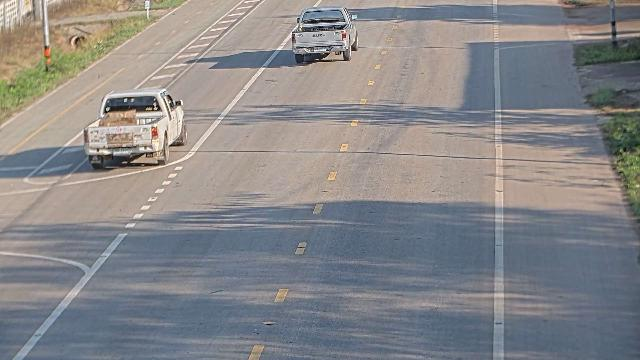pickup-truck: (82, 86, 187, 169), (291, 6, 359, 63)
